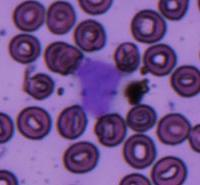L: (74, 55, 122, 117)
